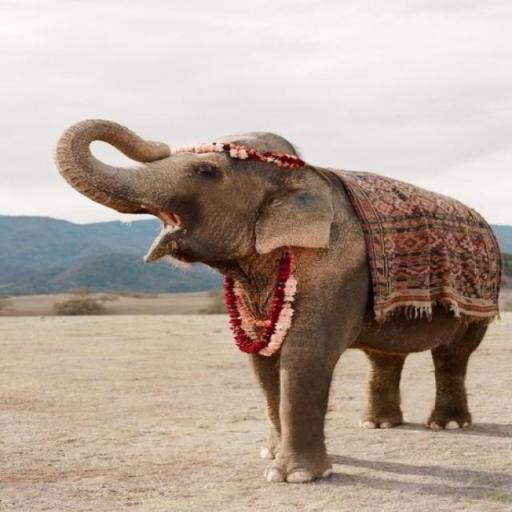Elephant: (52, 118, 504, 484)
